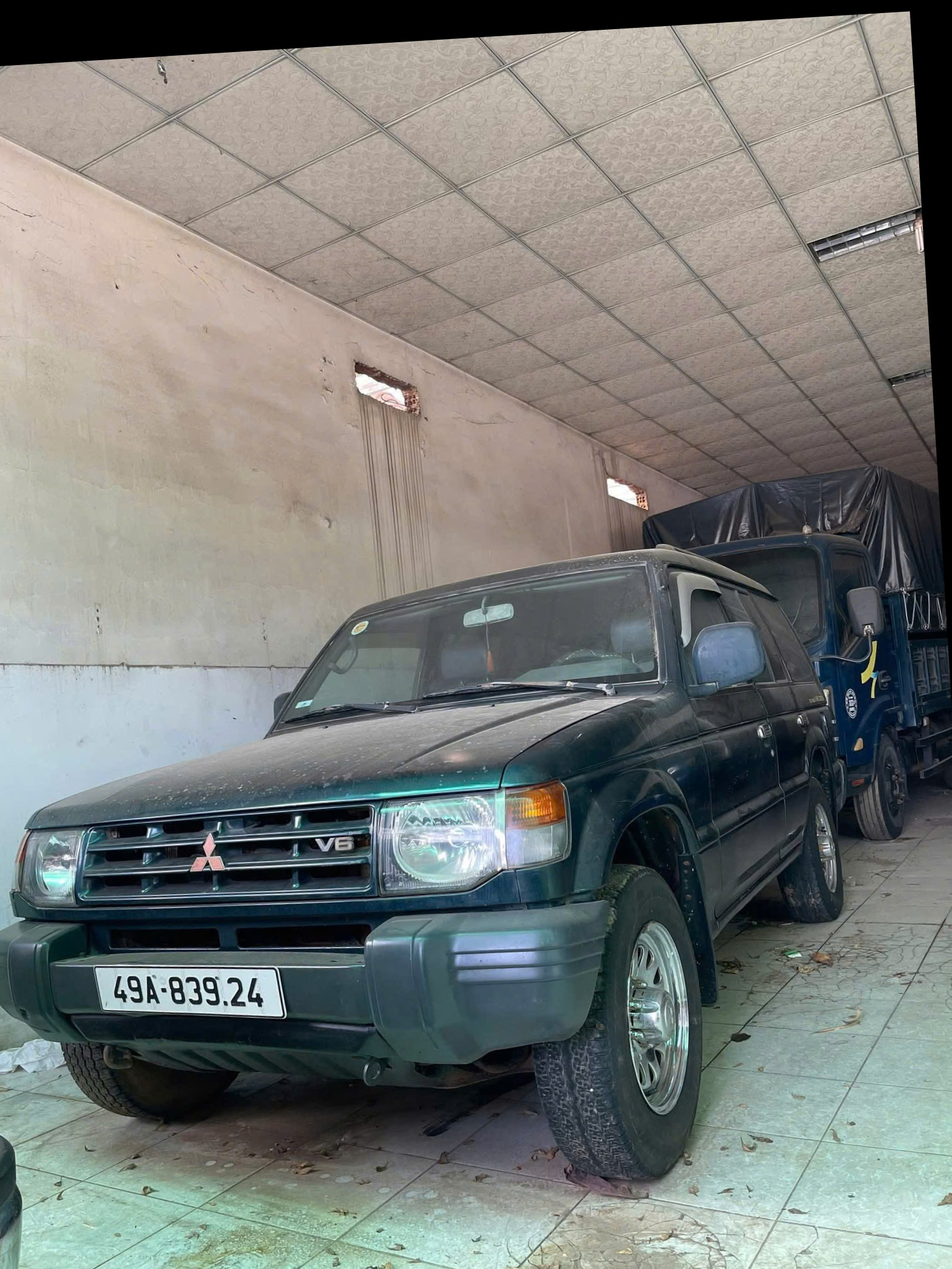Bien-so: (125, 907, 296, 964)
